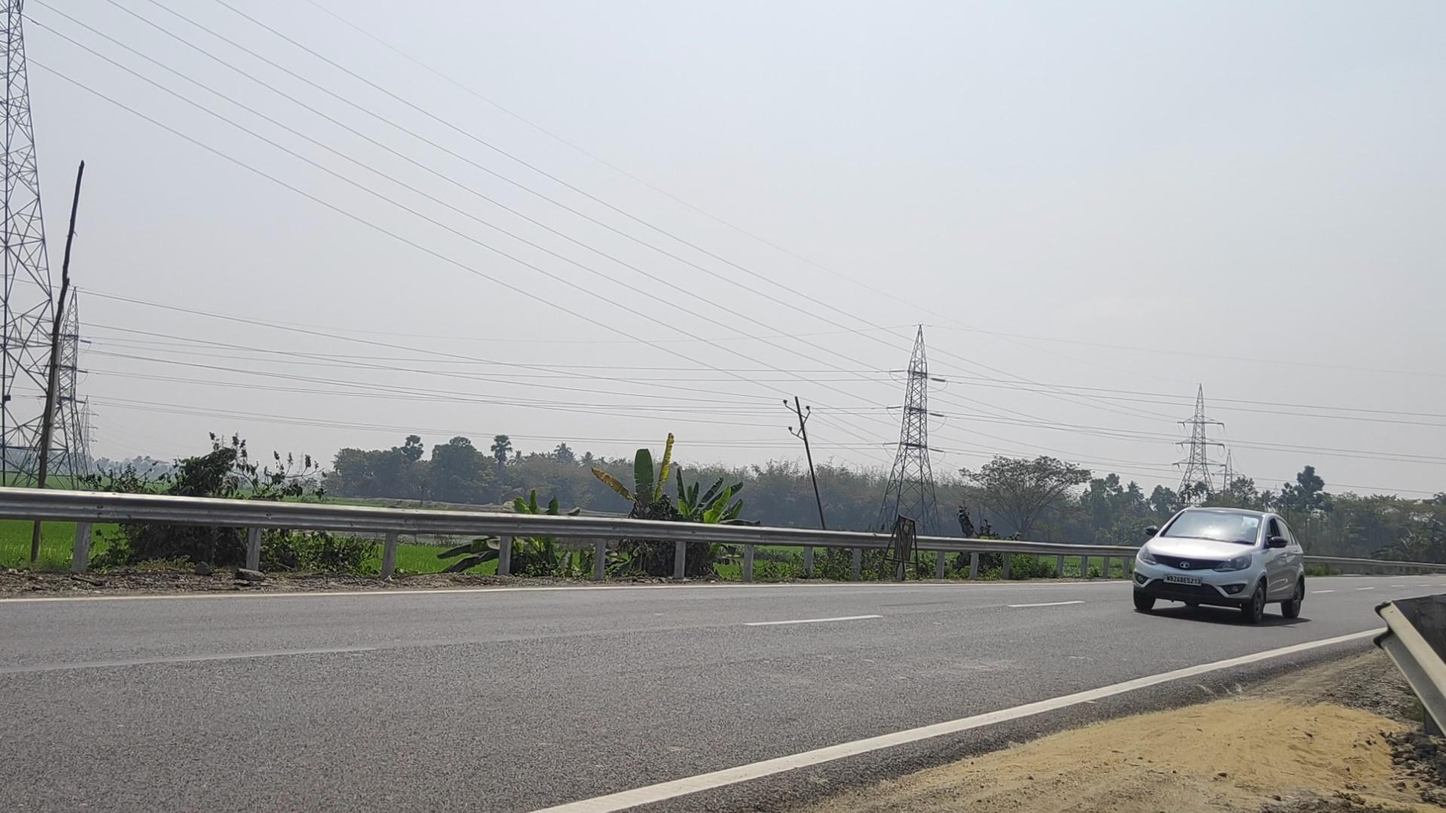car: (1132, 507, 1305, 627)
